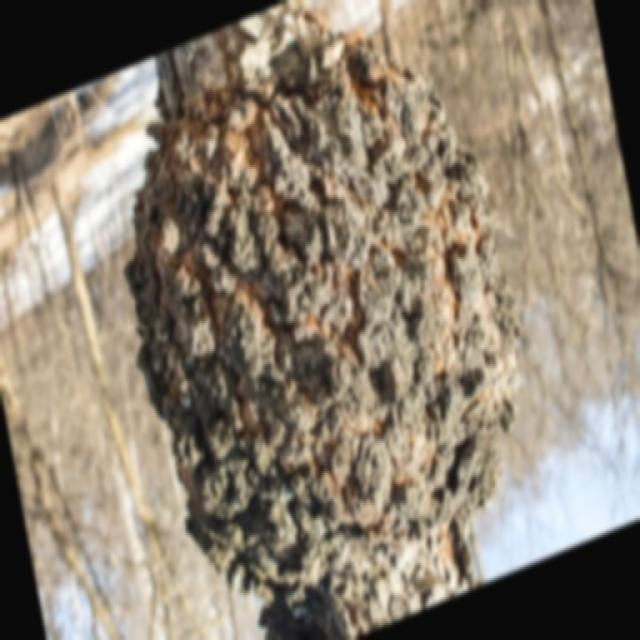Black_knot: (123, 0, 525, 638)
